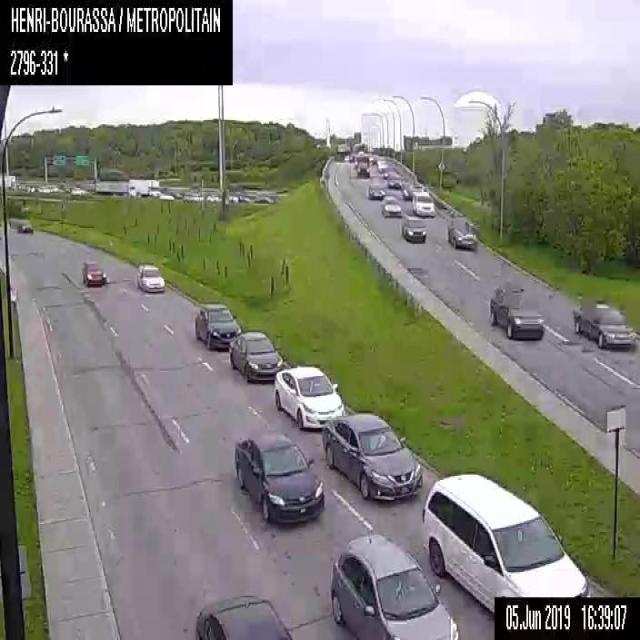vehicle: (420, 469, 592, 616), (329, 532, 458, 639), (322, 412, 422, 498), (232, 430, 322, 522), (194, 593, 291, 639), (274, 365, 344, 428), (572, 299, 637, 348), (487, 283, 545, 337), (228, 332, 283, 382), (194, 303, 241, 349), (446, 219, 476, 248), (136, 262, 164, 290), (400, 216, 426, 242), (95, 180, 135, 196), (412, 190, 434, 217), (82, 260, 104, 287), (129, 179, 159, 196), (380, 194, 400, 216), (401, 180, 417, 200), (356, 153, 369, 176), (368, 182, 384, 199), (388, 172, 402, 188), (17, 220, 33, 232)
